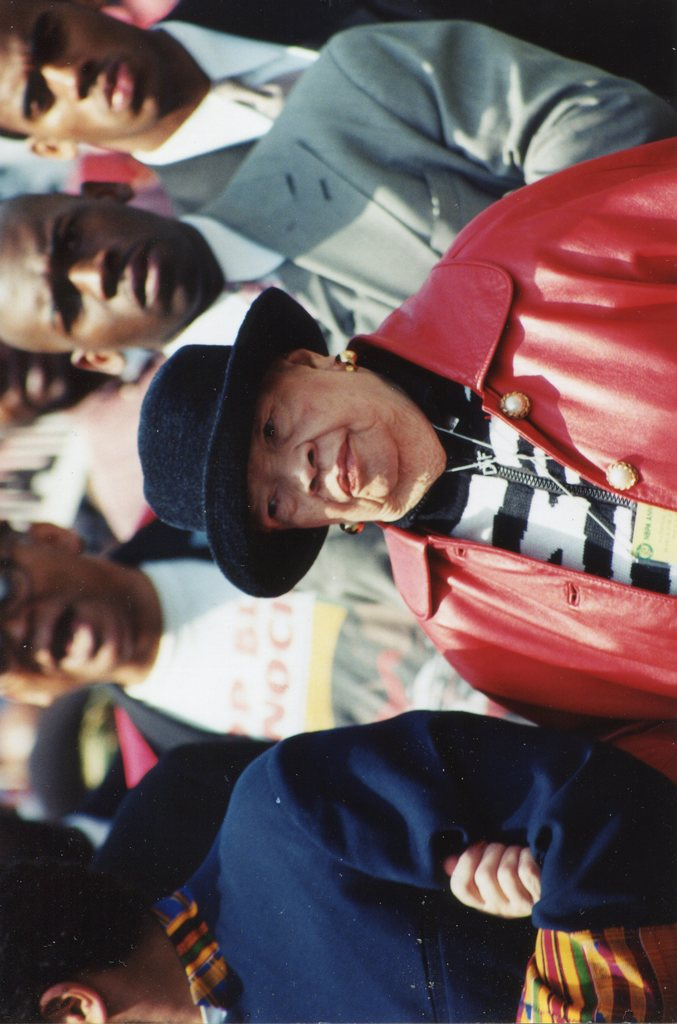Human_hand: (444, 826, 584, 936)
